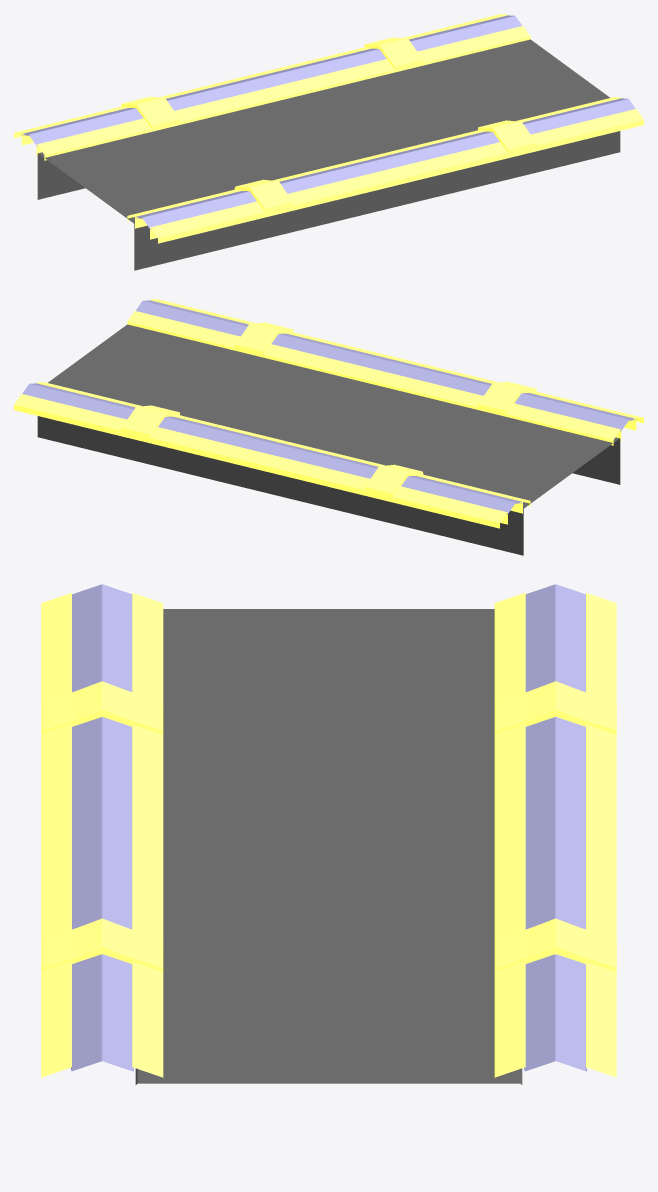
The model's file is SF_Path_Mesh.fbx.
3 renders of one model, top to bottom at view 1: azimuth 30°, elevation 25°; view 2: azimuth 150°, elevation 25°; view 3: azimuth 270°, elevation 25°, orthographic. The views are drawn at different scales.
Visible parts, largest first — view 1: floor, sideguard, sideguard.001; view 2: floor, sideguard, sideguard.001; view 3: floor, sideguard, sideguard.001.
Boxes of the visible parts, left/top/right/bottom form: floor: left=37, top=39, right=620, bottom=270; sideguard: left=14, top=14, right=643, bottom=243; sideguard.001: left=21, top=15, right=635, bottom=229; floor: left=37, top=324, right=620, bottom=555; sideguard: left=14, top=299, right=643, bottom=528; sideguard.001: left=22, top=300, right=636, bottom=514; floor: left=135, top=609, right=522, bottom=1084; sideguard: left=41, top=593, right=616, bottom=1077; sideguard.001: left=71, top=584, right=586, bottom=1071.
Bounding box in the file's own units: 871 × 108 × 447.
